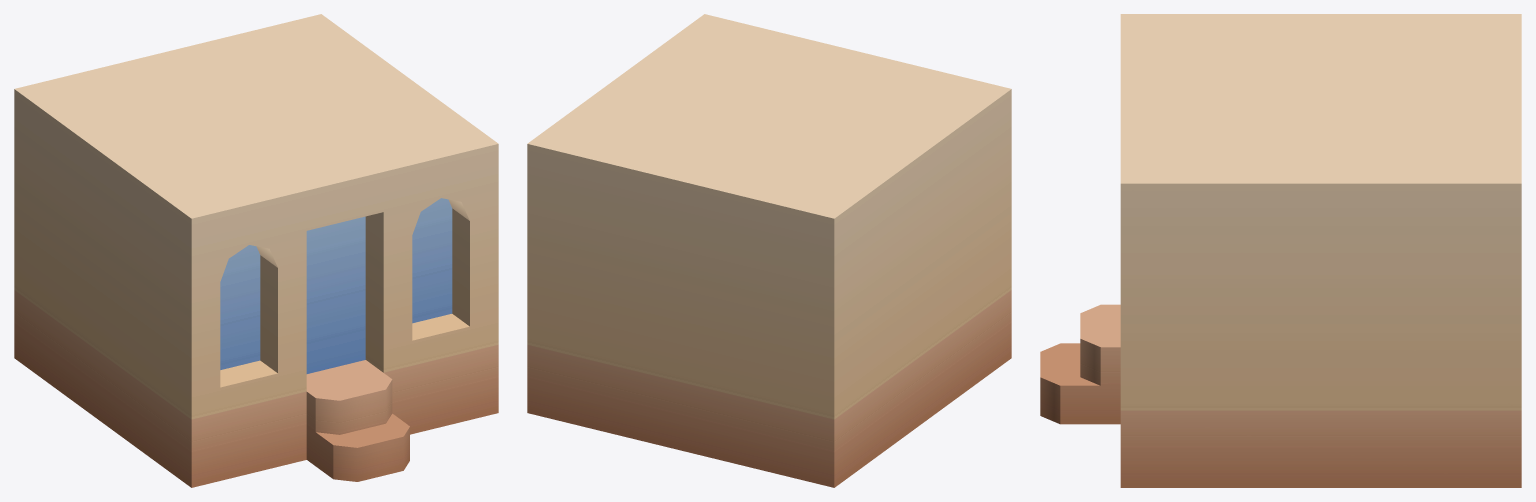
Rendered from building-steps-narrow-windows-round.glb.
3 renders of one model, left to right at view 1: azimuth 30°, elevation 25°; view 2: azimuth 150°, elevation 25°; view 3: azimuth 270°, elevation 25°, orthographic. The views are drawn at different scales.
Visible parts, largest first — view 1: building-steps-narrow-windows-round; view 2: building-steps-narrow-windows-round; view 3: building-steps-narrow-windows-round.
Boxes of the visible parts, left/top/right/bottom form: building-steps-narrow-windows-round: left=14, top=14, right=498, bottom=487; building-steps-narrow-windows-round: left=527, top=14, right=1011, bottom=487; building-steps-narrow-windows-round: left=1040, top=14, right=1521, bottom=487.
Bounding box in the file's own units: 1 × 0.8375 × 1.2.
Materials: 1 (1 with a texture image).
